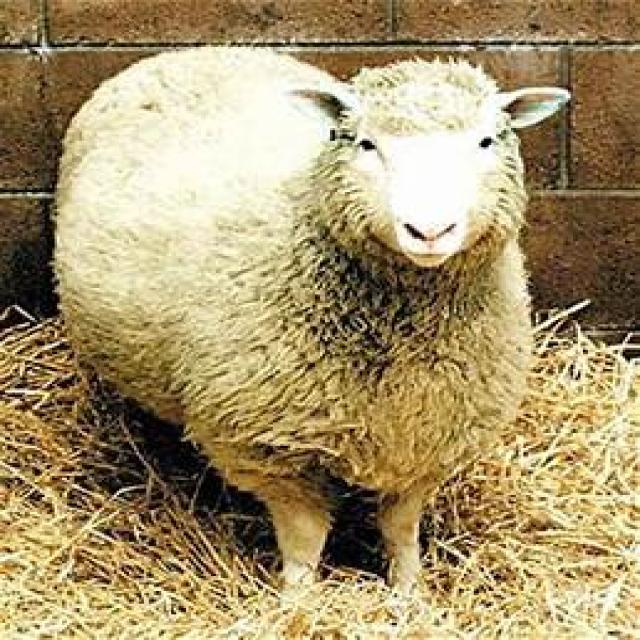goat: (50, 47, 573, 597)
